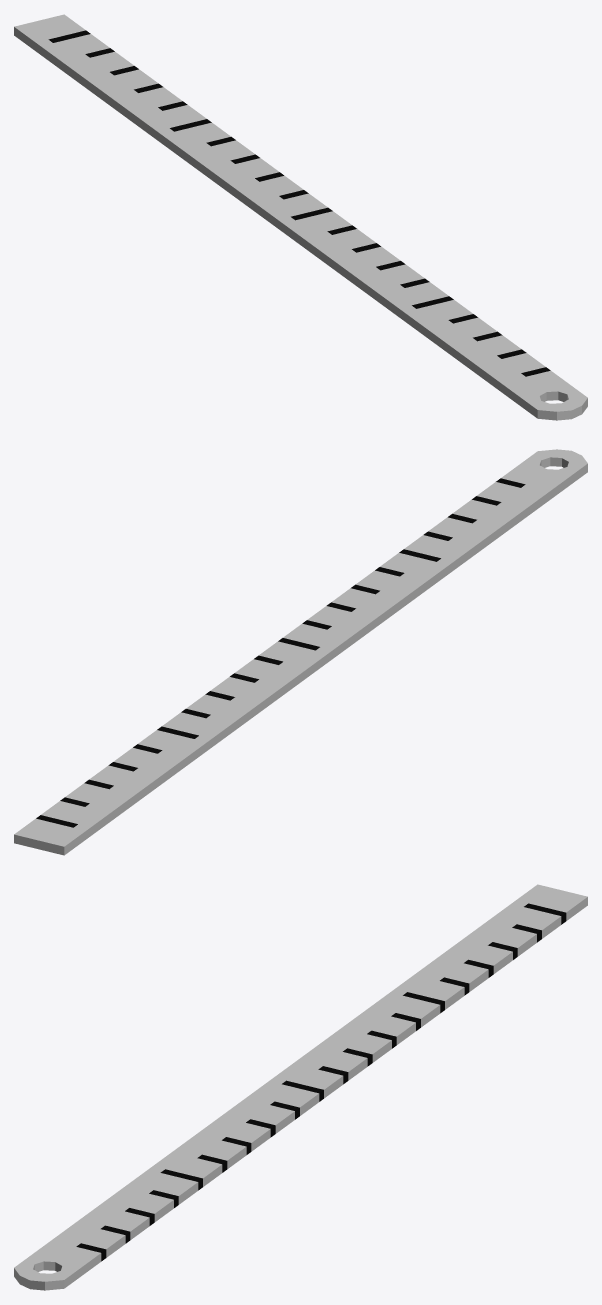
Rendered from ruler01.gltf.
3 renders of one model, top to bottom at view 1: azimuth 30°, elevation 25°; view 2: azimuth 150°, elevation 25°; view 3: azimuth 330°, elevation 25°, orthographic.
Parts seen in each view (by area): view 1: Cube; view 2: Cube; view 3: Cube.
Boxes of the visible parts, x1,y1,x2,y2 form: Cube: [14, 14, 587, 420]; Cube: [14, 449, 587, 855]; Cube: [14, 884, 587, 1290].
Size of the model in its own units: 0.012 by 0.002 by 0.22.
Materials: 1 (1 with a texture image).
